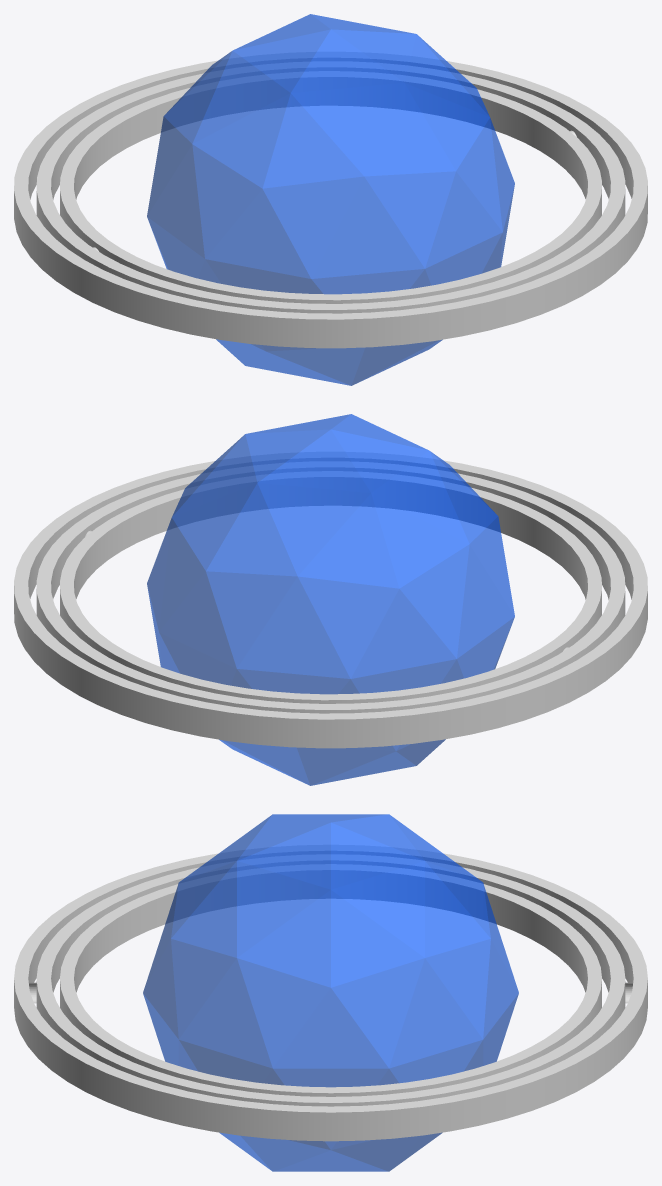
Rendered from gyro.glb.
The picture shows the model from 3 angles, top to bottom: view 1: azimuth 30°, elevation 25°; view 2: azimuth 150°, elevation 25°; view 3: azimuth 270°, elevation 25°; orthographic projection.
Parts seen in each view (by area): view 1: Gem, OuterRing, InnerRing, MiddleRing; view 2: Gem, OuterRing, InnerRing, MiddleRing; view 3: Gem, OuterRing, InnerRing, MiddleRing.
Boxes of the visible parts, x1,y1,x2,y2 form: Gem: (147,14,514,385); OuterRing: (14,52,647,348); InnerRing: (60,71,601,303); MiddleRing: (36,61,625,313); Gem: (147,414,514,785); OuterRing: (14,452,647,748); InnerRing: (60,471,601,703); MiddleRing: (36,461,625,713); Gem: (143,814,518,1171); OuterRing: (14,845,647,1141); InnerRing: (60,864,601,1096); MiddleRing: (36,854,625,1106).
Bounding box in the file's own units: 0.2 × 0.1187 × 0.2.
